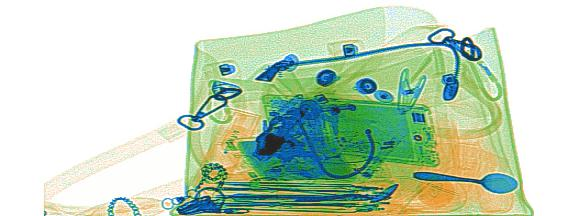plasticBottleWithaNozzle: (185, 108, 262, 211)
